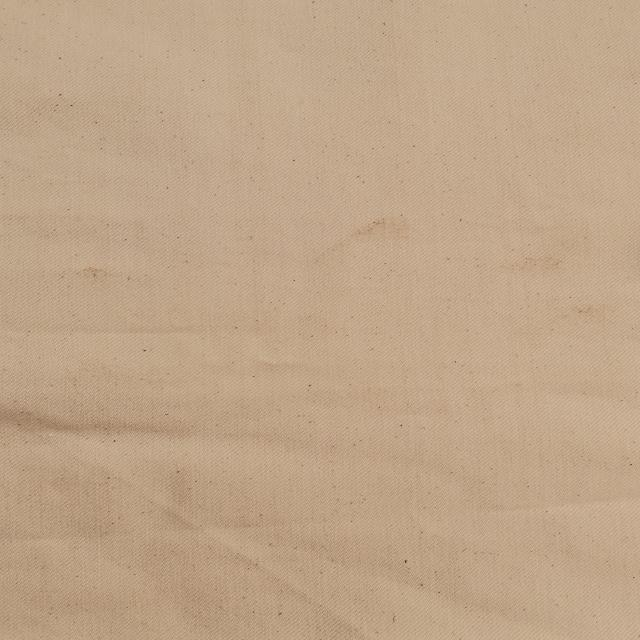taaaches: (322, 212, 404, 268), (507, 254, 568, 272), (70, 264, 120, 284), (565, 299, 612, 318)
